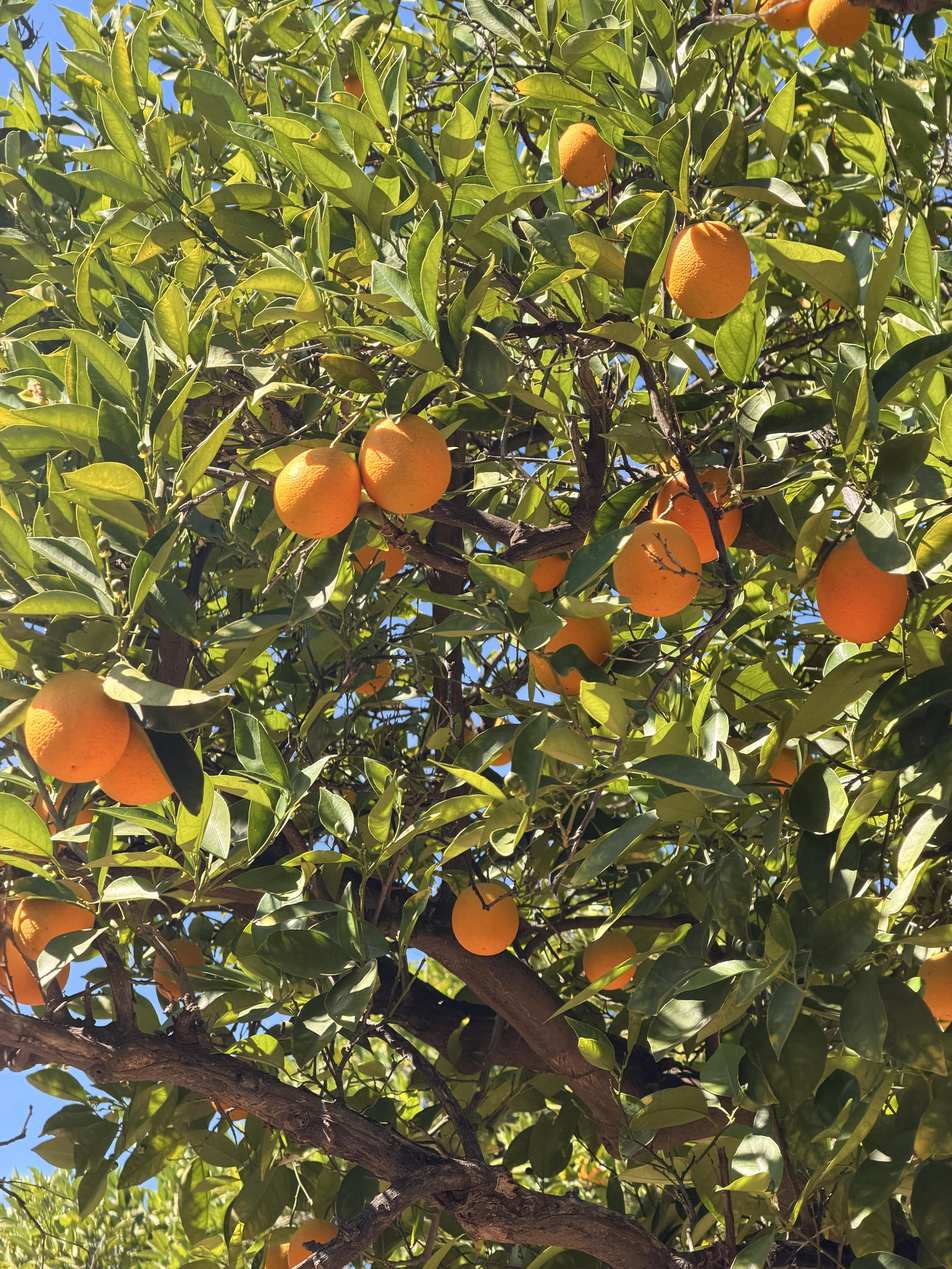orange: (24, 670, 130, 782), (816, 537, 907, 644), (359, 415, 451, 514), (613, 520, 701, 617), (664, 221, 751, 319), (653, 465, 740, 563), (274, 447, 362, 538), (13, 879, 96, 962), (530, 617, 614, 696), (94, 724, 175, 805), (0, 936, 71, 1006), (452, 883, 519, 955), (558, 120, 615, 188), (153, 941, 207, 1002), (584, 931, 638, 990), (808, 0, 871, 47), (351, 533, 409, 579), (289, 1220, 338, 1269), (917, 952, 952, 1020), (769, 748, 814, 794), (757, 0, 811, 32), (530, 551, 571, 591), (355, 659, 392, 695), (266, 1243, 290, 1268)
